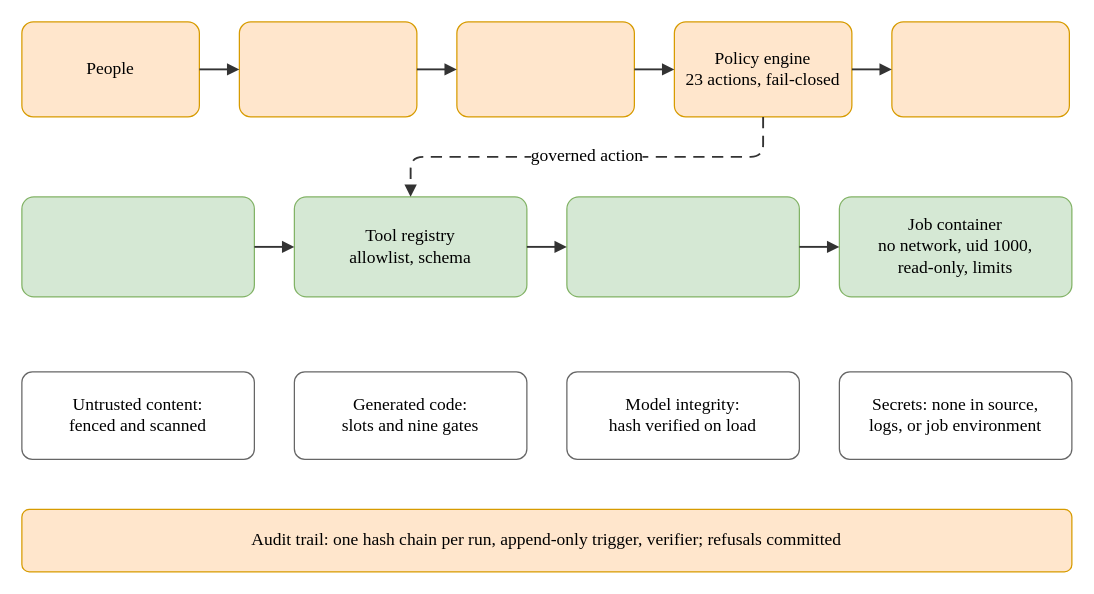
This 1094x594 diagram has some shape labels left out. Here are the shapes that lost their labels. From the top down, the centre of each, then its label:
At (x=327, y=69): "Authentication Argon2id, signed tokens".
At (x=545, y=69): "Authorization six roles, every endpoint".
At (x=980, y=69): "Approvals separation of duties".
At (x=137, y=246): "Worker".
At (x=682, y=246): "Sandbox runner socket, token, image allowlist".
